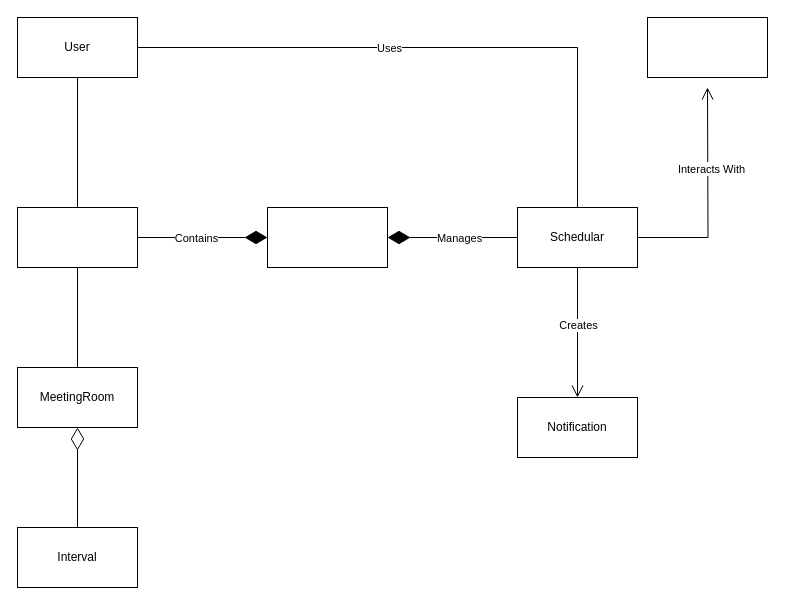
The diagram is 785 pixels wide and 605 high, and some of its shapes have lost their labels. The box of each missing label's shape, as (x1, y1, x2, y2) in pixels:
Calendar: (266, 206, 388, 268)
Meeting: (16, 206, 138, 268)
System: (646, 16, 768, 78)
